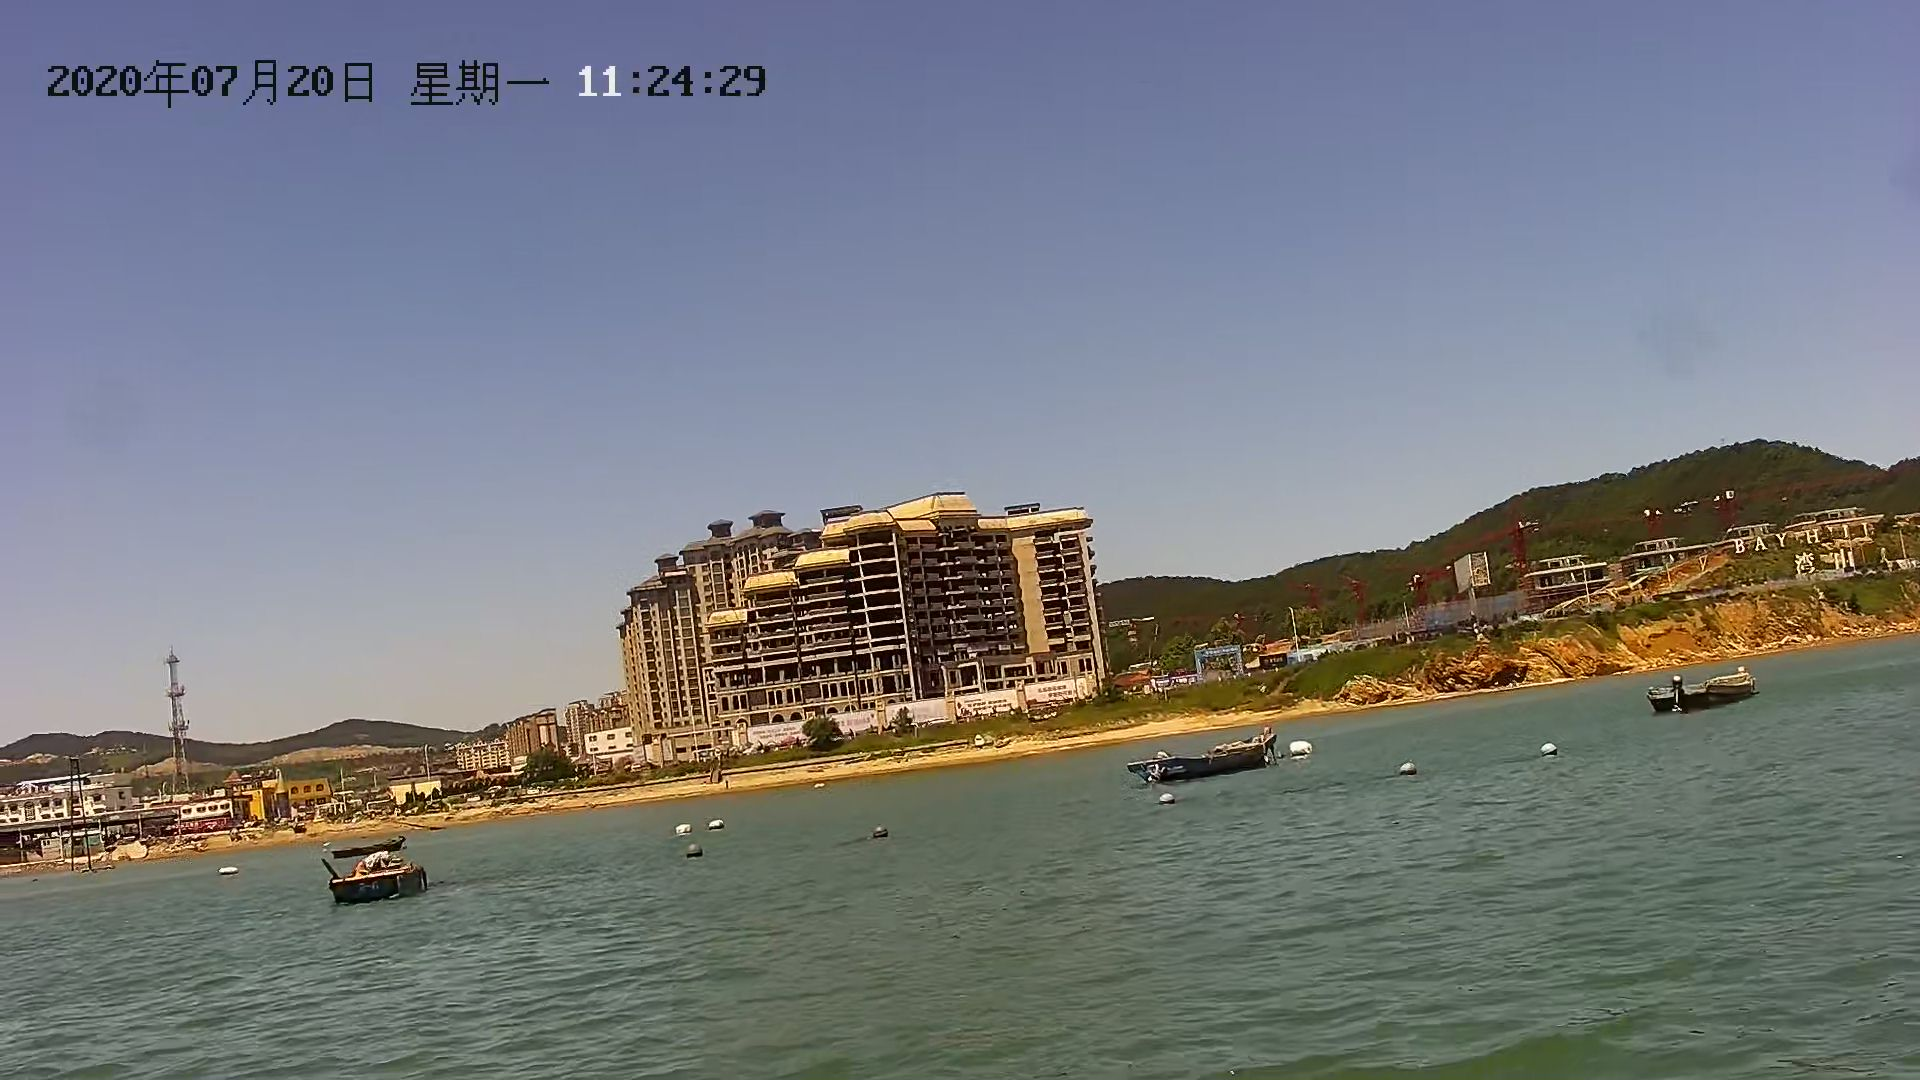ball: (1390, 752, 1433, 785), (1147, 785, 1185, 810), (862, 818, 895, 843), (1538, 736, 1567, 764), (678, 839, 709, 862)
boat: (314, 847, 435, 907), (1625, 665, 1768, 713), (1124, 735, 1284, 777), (324, 835, 418, 862)
